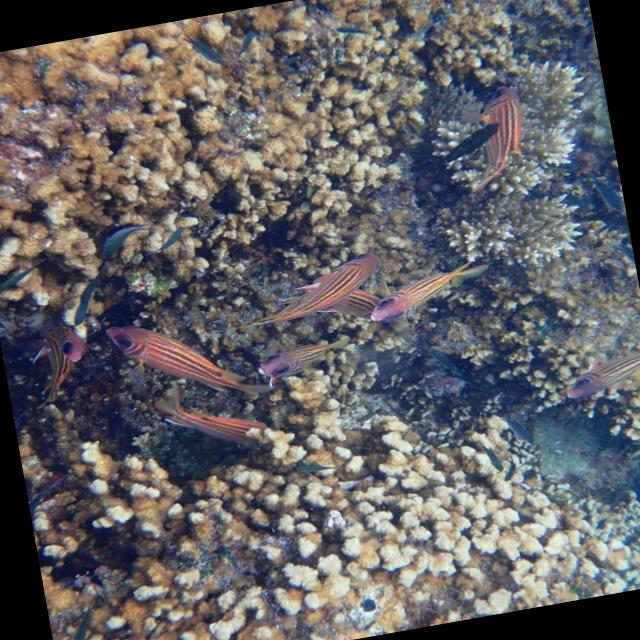Asker Baligi: (102, 280, 263, 424), (339, 232, 515, 350)
